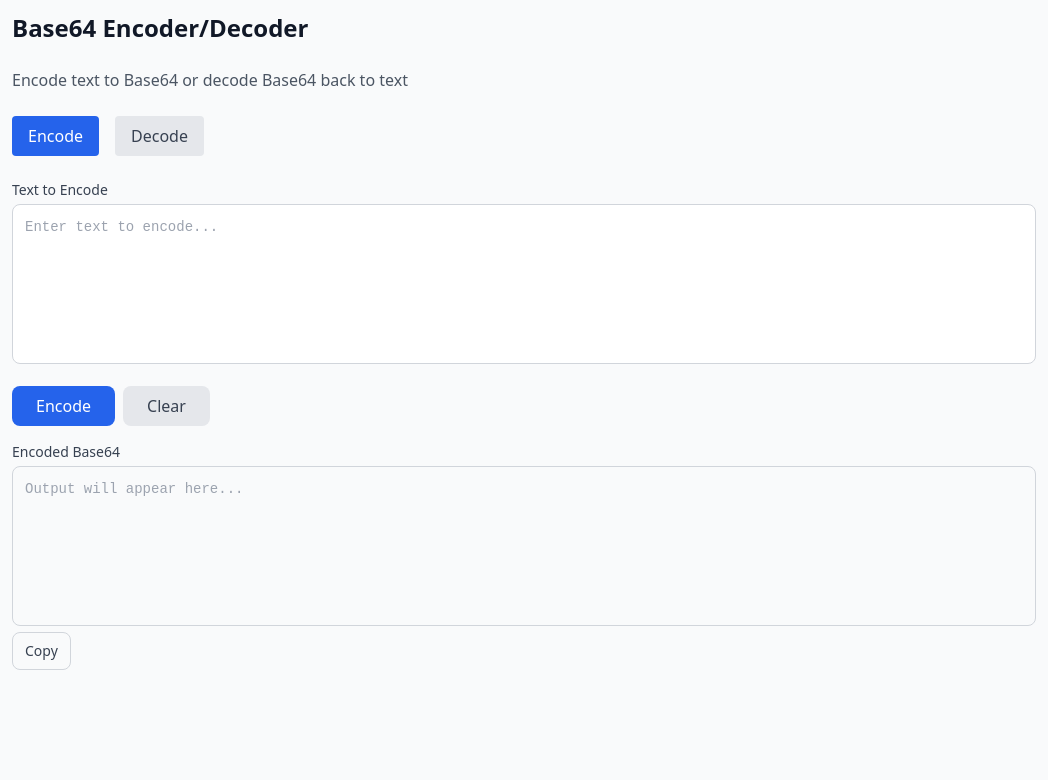
it: Base64EncoderDecoder › encodes text to base64
This screenshot has width=1048, height=780.
Type "Hello" into the text box labelled "Text to Encode" at {"x": 524, "y": 284}, box x1=12 y1=204 x2=1036 y2=364
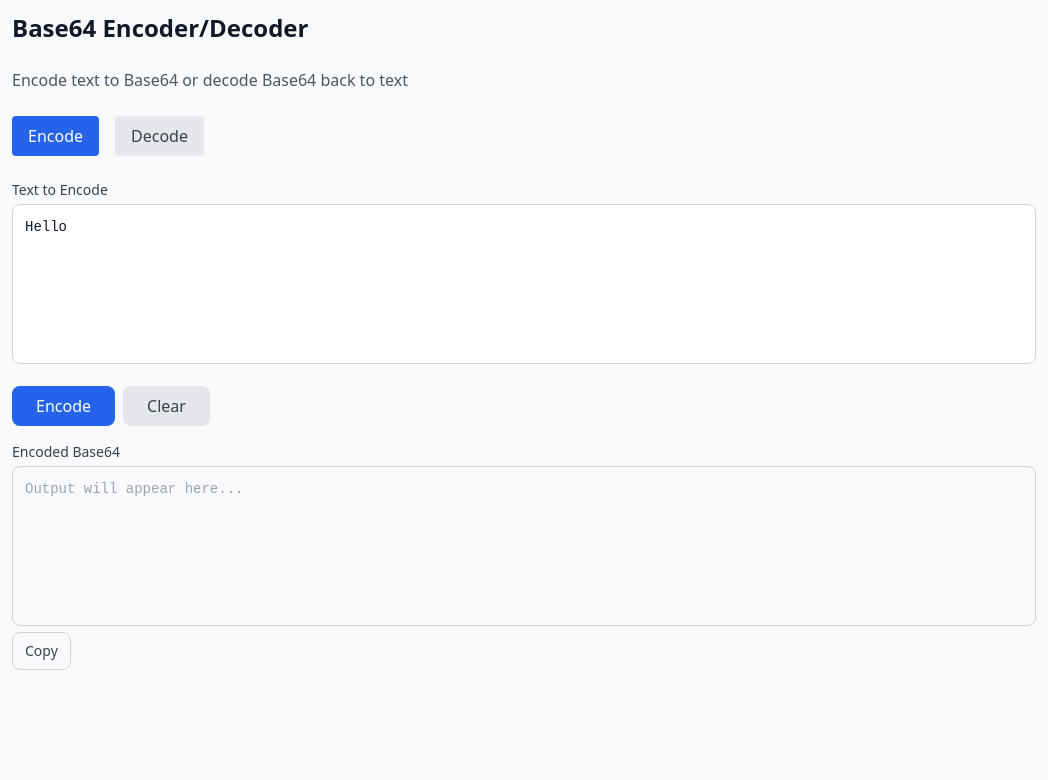
Click the button "Encode" below "Text to Encode" at {"x": 64, "y": 406}, box x1=12 y1=386 x2=115 y2=426
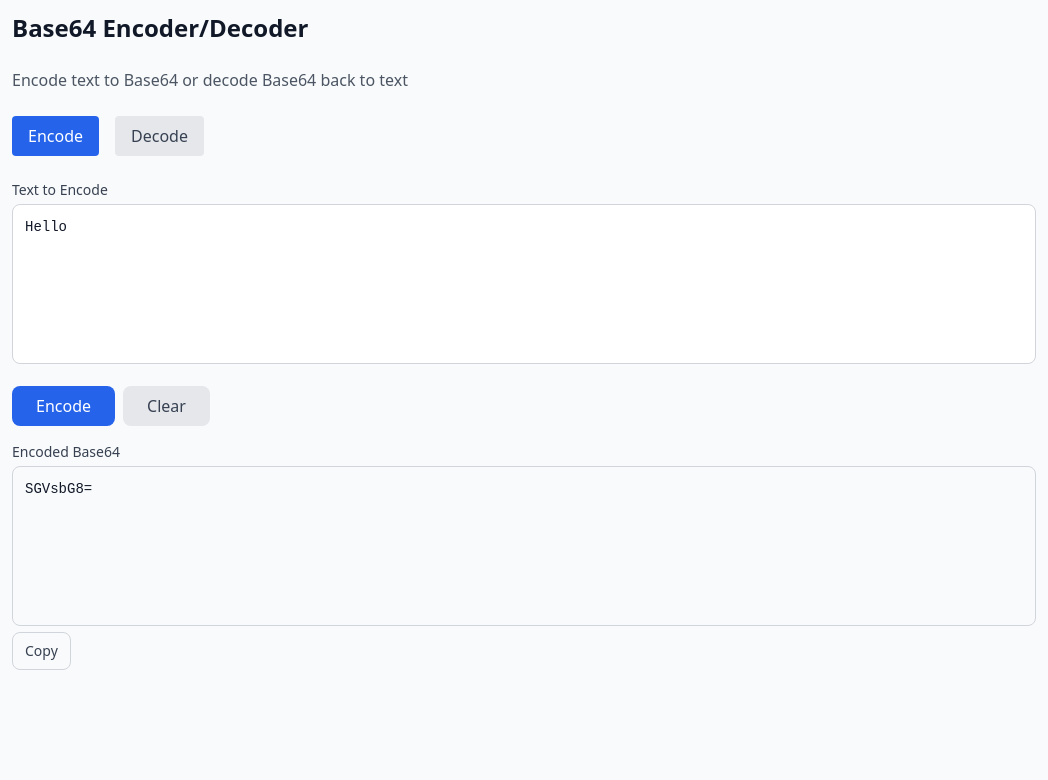
expect the text box labelled "Encoded Base64" holds "SGVsbG8=": met, box x1=12 y1=466 x2=1036 y2=626
